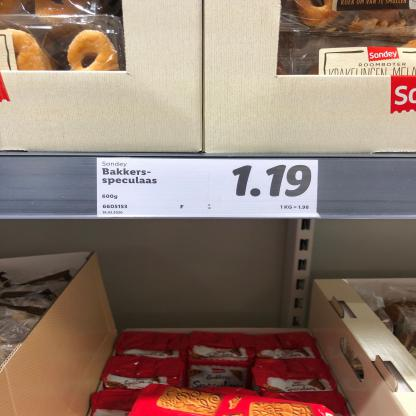prtg: (97, 159, 319, 219)
